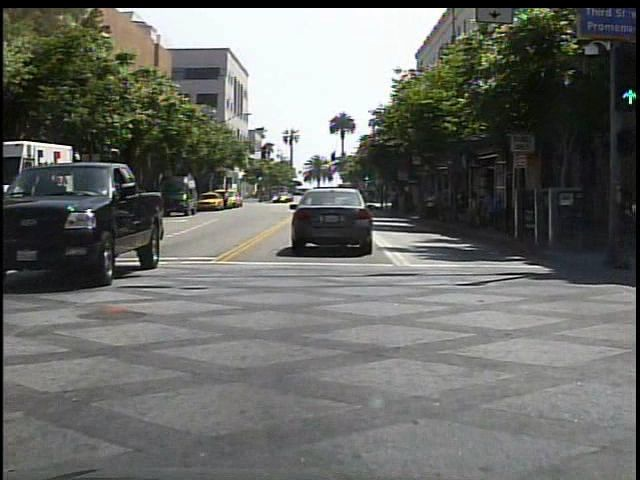person: (615, 179, 640, 274), (422, 187, 441, 223)
